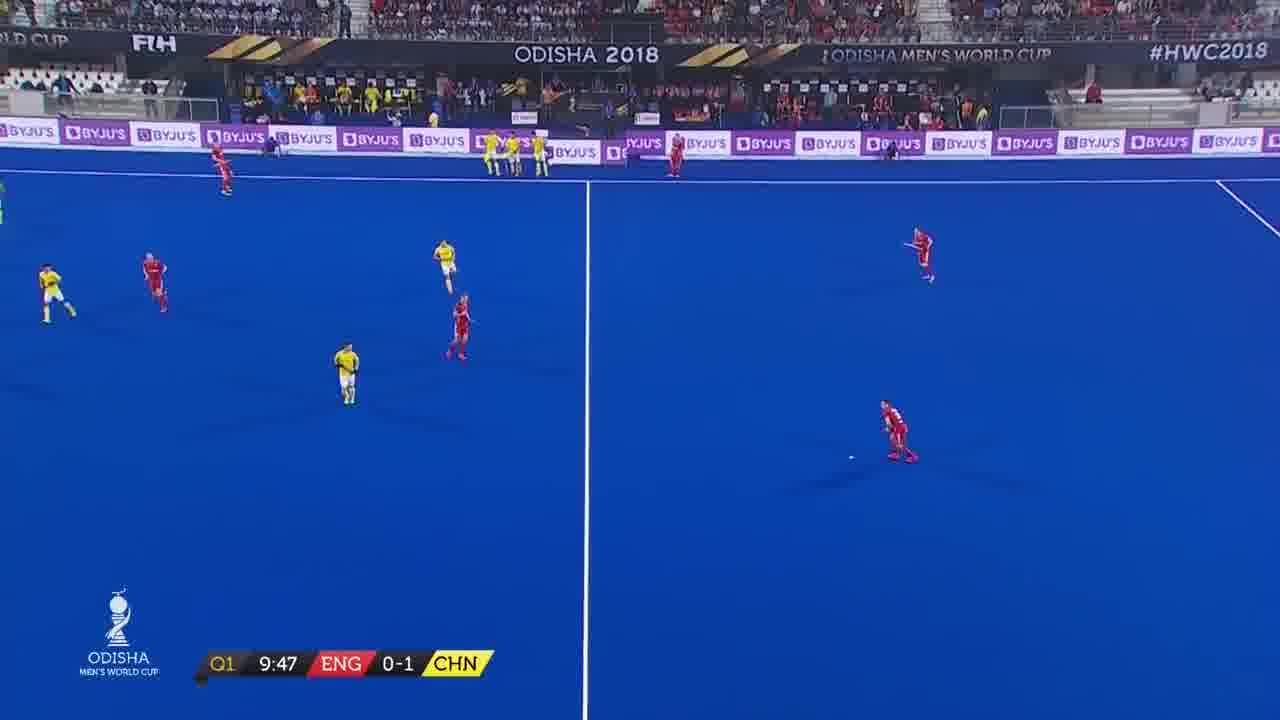ball: (845, 444, 861, 468)
